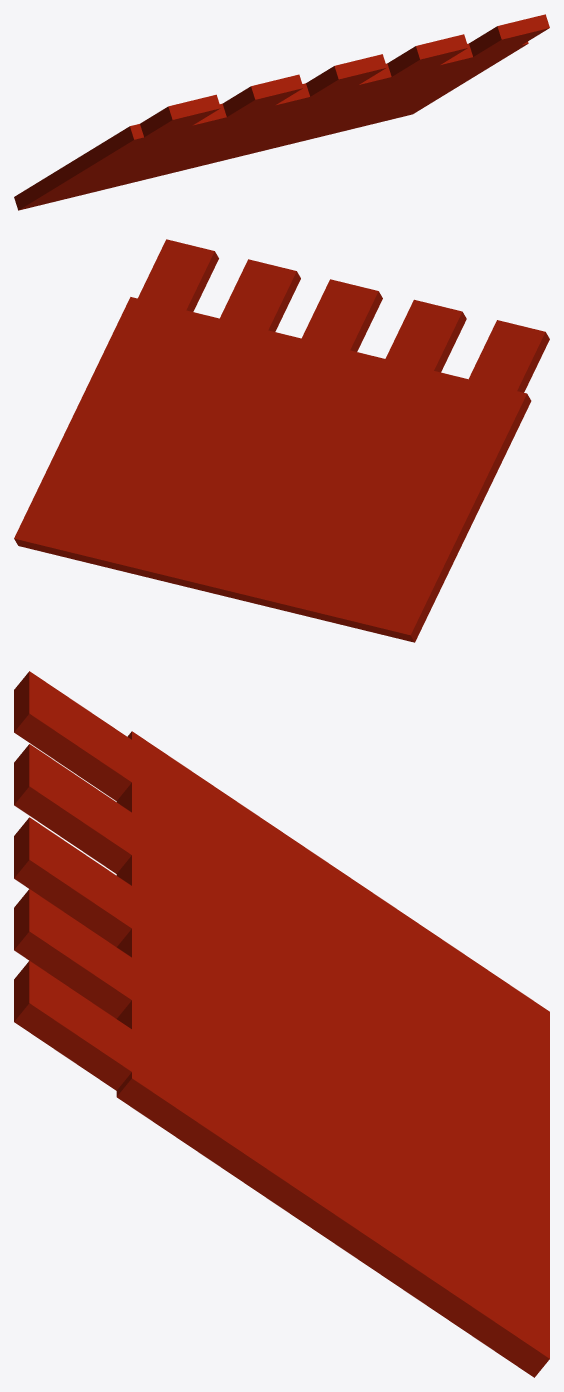
Rendered from wall1d.obj.
The picture shows the model from 3 angles, top to bottom: view 1: azimuth 30°, elevation 25°; view 2: azimuth 150°, elevation 25°; view 3: azimuth 270°, elevation 25°; orthographic projection. The views are drawn at different scales.
Visible parts, largest first — view 1: Cube, Cube.004, Cube.002, Cube.001, Cube.003, Cube.005; view 2: Cube, Cube.002, Cube.003, Cube.005, Cube.004, Cube.001; view 3: Cube, Cube.001, Cube.005, Cube.002, Cube.004, Cube.003.
Boxes of the visible parts, x1=… form: Cube: x1=14, y1=41, x2=528, y2=210; Cube.004: x1=387, y1=34, x2=468, y2=76; Cube.002: x1=222, y1=74, x2=303, y2=116; Cube.001: x1=140, y1=94, x2=220, y2=137; Cube.003: x1=306, y1=54, x2=386, y2=96; Cube.005: x1=469, y1=14, x2=549, y2=56; Cube: x1=14, y1=297, x2=531, y2=642; Cube.002: x1=385, y1=299, x2=466, y2=372; Cube.003: x1=301, y1=279, x2=382, y2=351; Cube.005: x1=138, y1=239, x2=218, y2=311; Cube.004: x1=220, y1=259, x2=300, y2=331; Cube.001: x1=469, y1=320, x2=549, y2=392; Cube: x1=116, y1=731, x2=549, y2=1377; Cube.001: x1=14, y1=671, x2=131, y2=800; Cube.005: x1=14, y1=961, x2=131, y2=1090; Cube.002: x1=14, y1=744, x2=131, y2=873; Cube.004: x1=14, y1=889, x2=131, y2=1018; Cube.003: x1=14, y1=817, x2=131, y2=946.
Size of the model in its own units: 1.22 by 0.605 by 0.7976.
